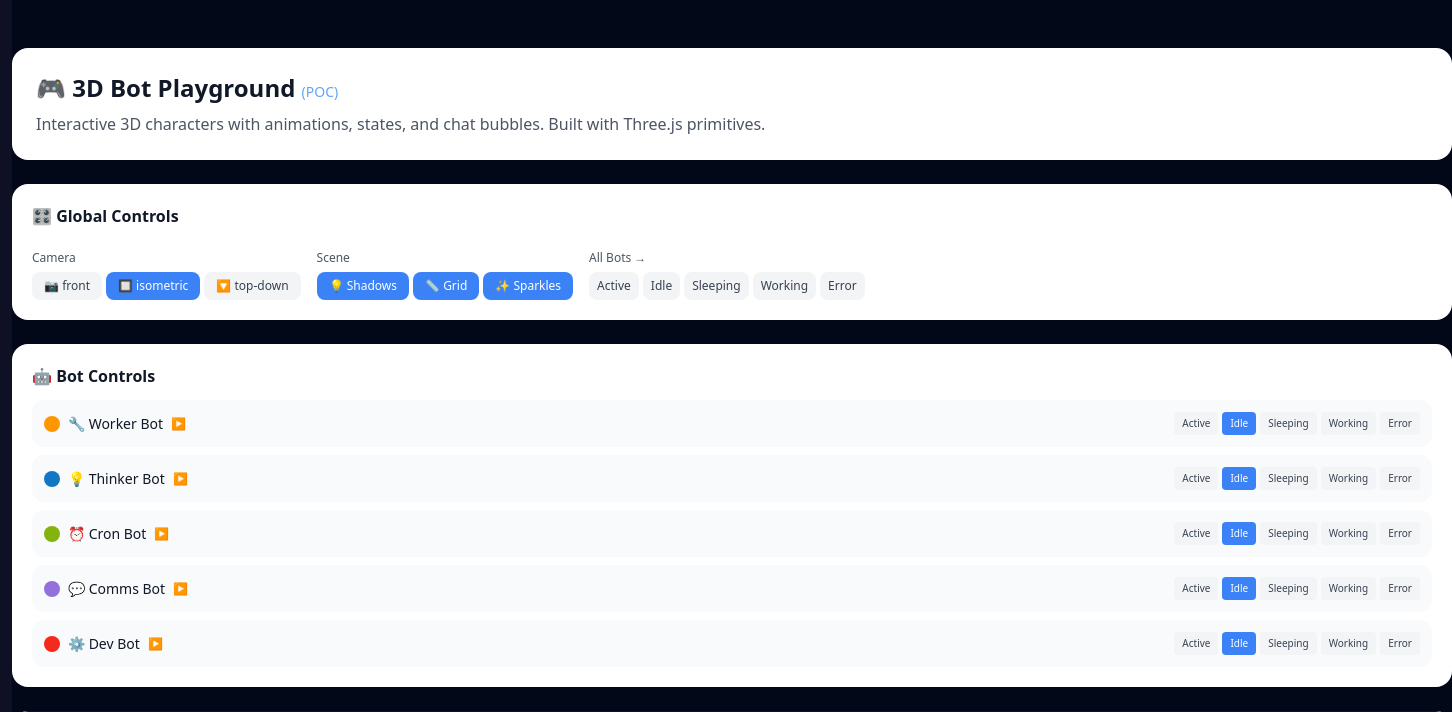
Test: DesignLab3D › can expand a bot row to show bubble controls
# Click Worker Bot row header button (not the drei-text element in the 3D scene)
Click the button "🔧 Worker Bot ▶": click(115, 424) [44,414,186,434]
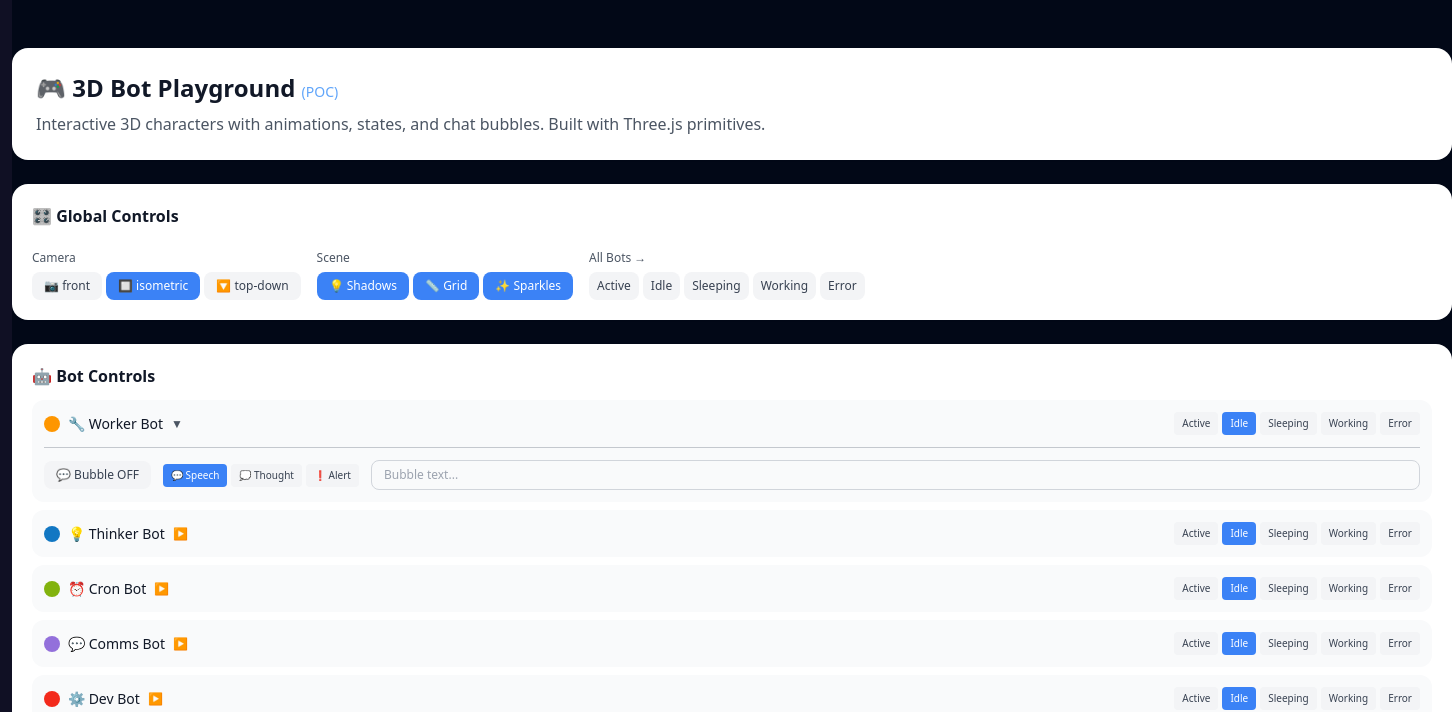
Result: the button "💬 Bubble OFF" is shown at [44,461,151,489]
